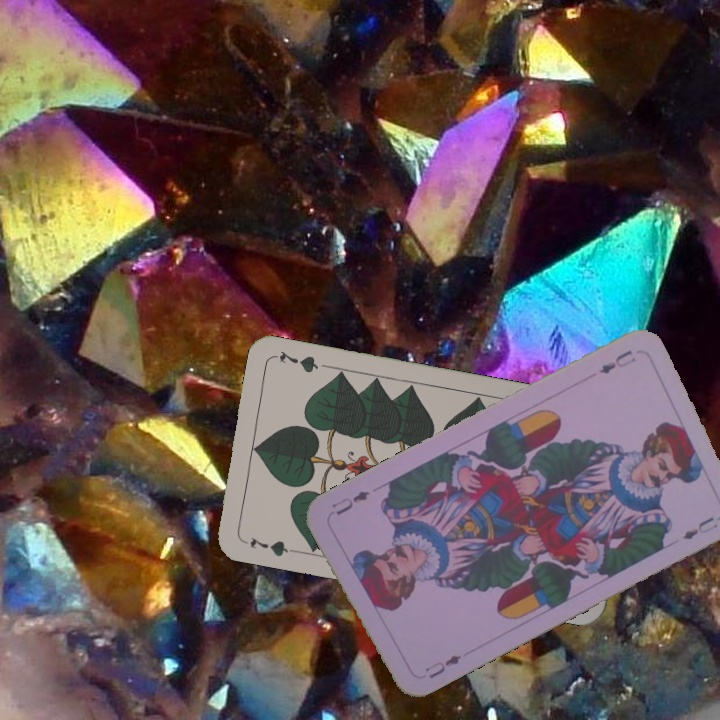EU: (420, 650, 464, 682), (595, 346, 639, 377)
G7: (238, 533, 297, 560)
